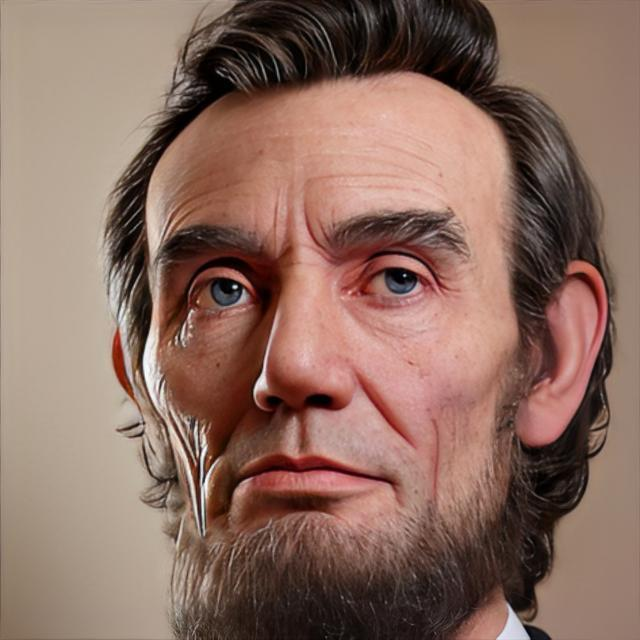sad: (143, 74, 525, 600)
